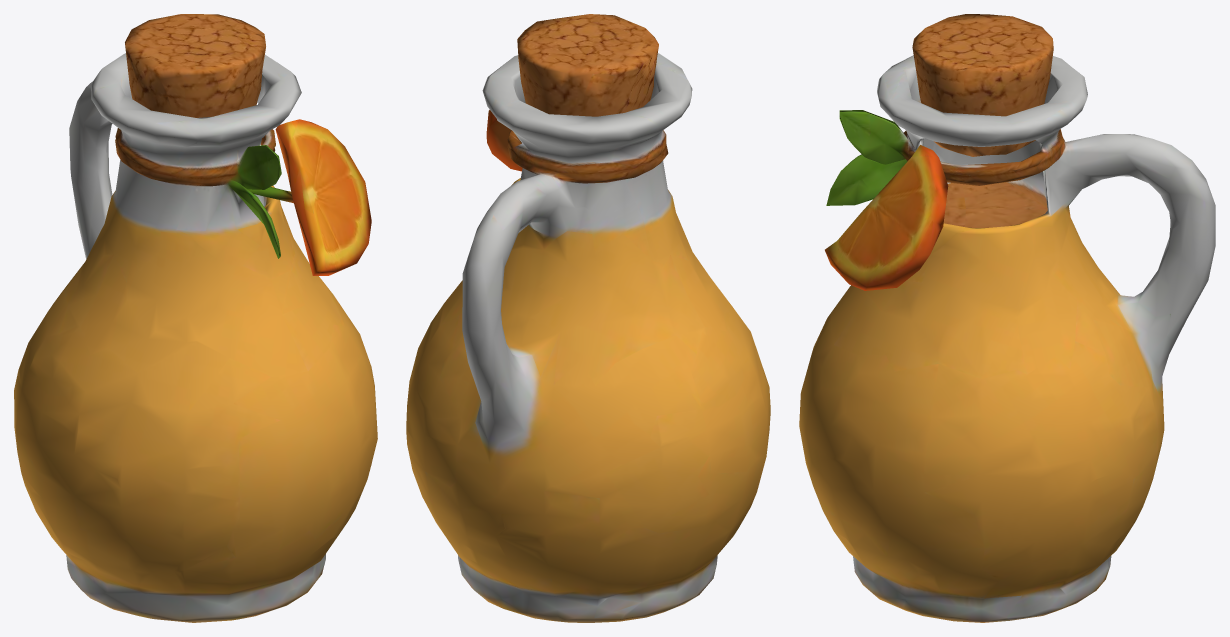
File: SM_Kitchen_JuiceJug.glb
3 views of the same model, side by side, from view 1: azimuth 30°, elevation 25°; view 2: azimuth 150°, elevation 25°; view 3: azimuth 270°, elevation 25° (orthographic).
Parts seen in each view (by area): view 1: tripo_node_be14b385-2260-4ba9-ac5a-ed8d496a1d27; view 2: tripo_node_be14b385-2260-4ba9-ac5a-ed8d496a1d27; view 3: tripo_node_be14b385-2260-4ba9-ac5a-ed8d496a1d27.
Part boxes in pixels (x1,y1,x2,y2): tripo_node_be14b385-2260-4ba9-ac5a-ed8d496a1d27: (14, 14, 377, 622); tripo_node_be14b385-2260-4ba9-ac5a-ed8d496a1d27: (406, 14, 770, 622); tripo_node_be14b385-2260-4ba9-ac5a-ed8d496a1d27: (799, 14, 1215, 622).
Bounding box in the file's own units: 0.6229 × 1 × 0.7088.
1 material, 1 textured.
